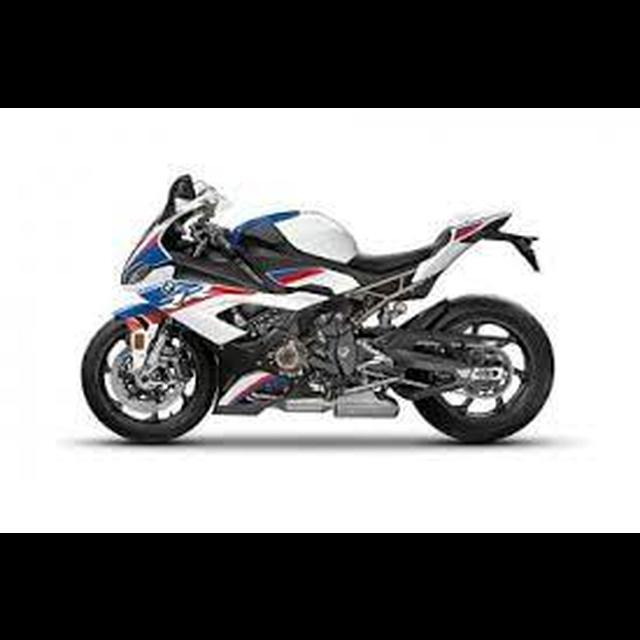motorcycle: (81, 167, 560, 447)
